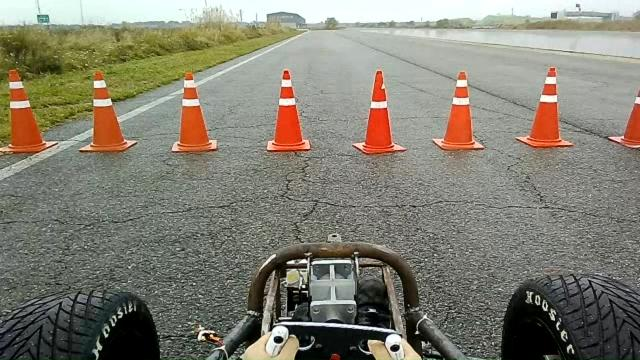red cone: (78, 69, 138, 153), (1, 68, 58, 154), (515, 66, 574, 148), (350, 69, 406, 154), (432, 71, 485, 152), (170, 70, 218, 153), (265, 68, 311, 152), (608, 85, 639, 149)
